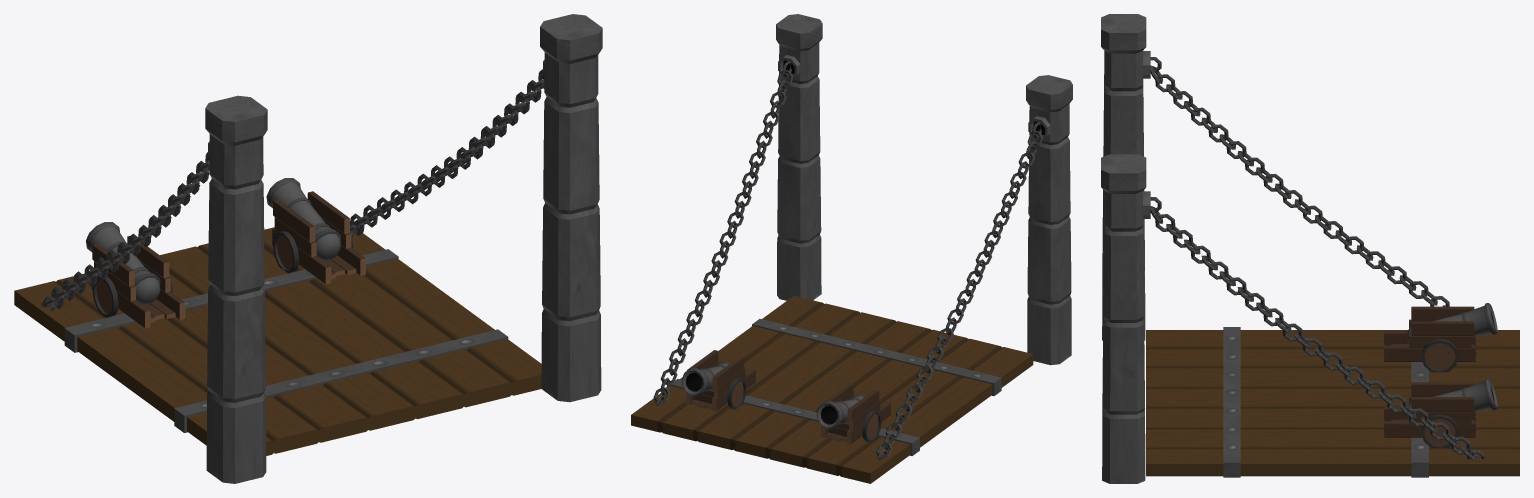
File: Plataforma Puente Inverso Cañon Ambos.fbx
3 views of the same model, side by side, from view 1: azimuth 30°, elevation 25°; view 2: azimuth 150°, elevation 25°; view 3: azimuth 270°, elevation 25° (orthographic). The views are drawn at different scales.
Visible parts, largest first — view 1: Puente.004, Torre2.004, Torre.004, Torus.292, Metal Puente.004, Torus.327, Metal Puente 2.004, Cylinder.010, Cylinder.015, Cylinder.011, Cube.114, Cylinder.016 (+3 smaller); view 2: Puente.004, Torre2.004, Torre.004, Torus.292, Torus.327, Metal Puente.004, Metal Puente 2.004, Cylinder.010, Cylinder.015, Cylinder.016, Cylinder.011, Cube.108 (+1 smaller); view 3: Puente.004, Torre.004, Torre2.004, Torus.292, Torus.327, Metal Puente.004, Metal Puente 2.004, Cylinder.017, Cylinder.015, Cube.111, Cylinder.010, Cube.187 (+7 smaller).
Boxes of the visible parts, x1=… form: Puente.004: x1=14, y1=227, x2=541, y2=455; Torre2.004: x1=205, y1=95, x2=267, y2=483; Torre.004: x1=540, y1=14, x2=602, y2=402; Torus.292: x1=350, y1=69, x2=544, y2=237; Metal Puente.004: x1=174, y1=329, x2=508, y2=432; Torus.327: x1=41, y1=152, x2=209, y2=310; Metal Puente 2.004: x1=64, y1=249, x2=398, y2=352; Cylinder.010: x1=266, y1=178, x2=341, y2=260; Cylinder.015: x1=86, y1=222, x2=160, y2=304; Cylinder.011: x1=273, y1=231, x2=299, y2=273; Cube.114: x1=273, y1=200, x2=315, y2=242; Cylinder.016: x1=92, y1=276, x2=118, y2=317; Puente.004: x1=631, y1=295, x2=1033, y2=483; Torre2.004: x1=1026, y1=75, x2=1072, y2=365; Torre.004: x1=776, y1=14, x2=822, y2=300; Torus.292: x1=653, y1=61, x2=793, y2=406; Torus.327: x1=876, y1=122, x2=1042, y2=460; Metal Puente.004: x1=752, y1=319, x2=1001, y2=395; Metal Puente 2.004: x1=670, y1=379, x2=919, y2=455; Cylinder.010: x1=681, y1=361, x2=730, y2=396; Cylinder.015: x1=816, y1=394, x2=865, y2=429; Cylinder.016: x1=862, y1=410, x2=881, y2=442; Cylinder.011: x1=727, y1=377, x2=746, y2=409; Cube.108: x1=847, y1=389, x2=879, y2=420; Puente.004: x1=1146, y1=330, x2=1519, y2=476; Torre.004: x1=1101, y1=154, x2=1146, y2=483; Torre2.004: x1=1101, y1=14, x2=1146, y2=340; Torus.292: x1=1150, y1=197, x2=1485, y2=460; Torus.327: x1=1150, y1=57, x2=1449, y2=306; Metal Puente.004: x1=1223, y1=327, x2=1240, y2=477; Metal Puente 2.004: x1=1411, y1=362, x2=1428, y2=477; Cylinder.017: x1=1421, y1=338, x2=1458, y2=372; Cylinder.015: x1=1407, y1=303, x2=1497, y2=342; Cube.111: x1=1411, y1=321, x2=1474, y2=335; Cylinder.010: x1=1407, y1=378, x2=1497, y2=418; Cube.187: x1=1411, y1=397, x2=1474, y2=411.
Bounding box in the file's own units: 1006 × 930 × 1117.
